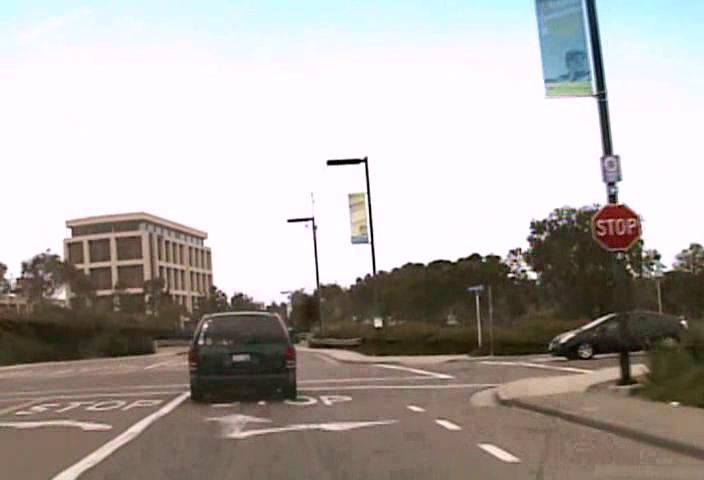stop: (591, 202, 642, 251)
